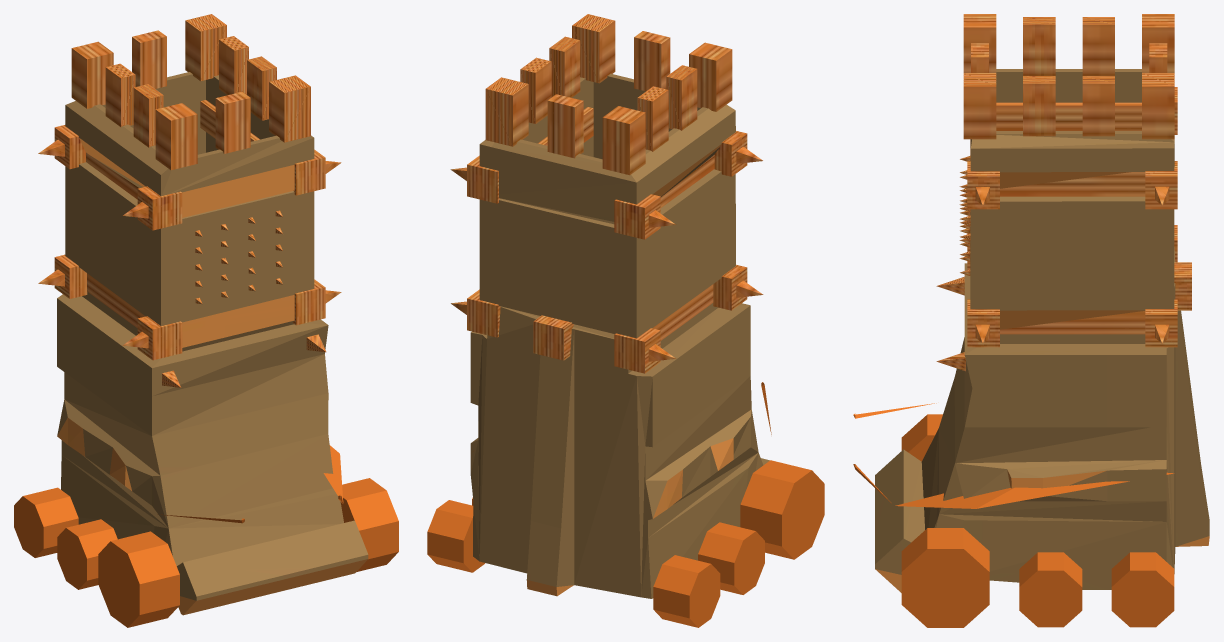
The model's file is ae_siege_tower_open_bronze_lod1.glb.
The picture shows the model from 3 angles, left to right: view 1: azimuth 30°, elevation 25°; view 2: azimuth 150°, elevation 25°; view 3: azimuth 270°, elevation 25°; orthographic projection. The views are drawn at different scales.
Visible parts, largest first — view 1: siege_tower_open; view 2: siege_tower_open; view 3: siege_tower_open.
Boxes of the visible parts, x1,y1,x2,y2 form: siege_tower_open: (14,14,398,627); siege_tower_open: (427,14,824,627); siege_tower_open: (853,14,1209,627).
Bounding box in the file's own units: 46.39 × 82.22 × 51.97.
Materials: 4 (3 with a texture image).
